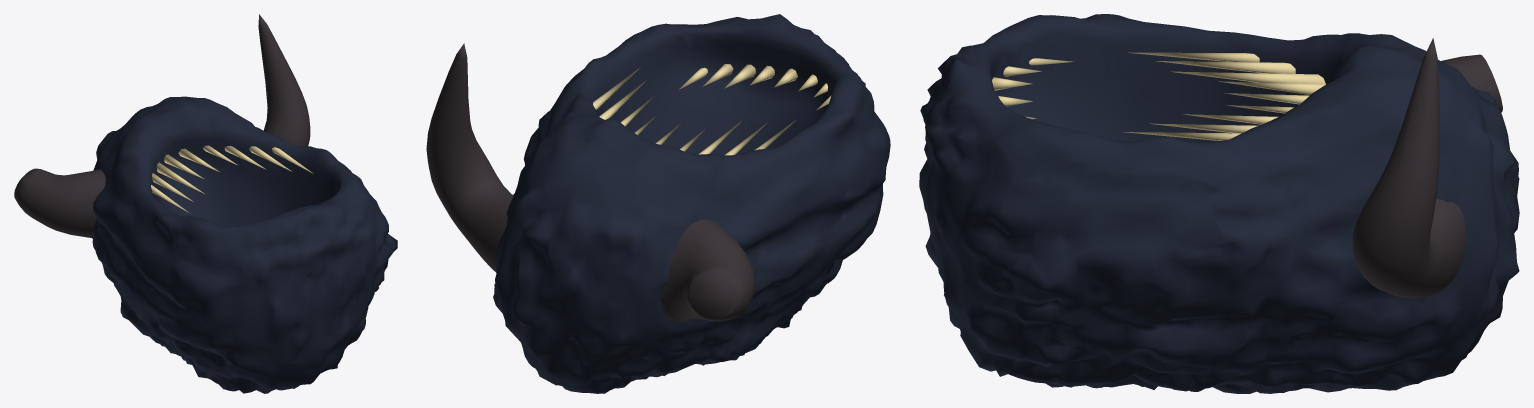
File: Blob Monster LOD.fbx
3 views of the same model, side by side, from view 1: azimuth 30°, elevation 25°; view 2: azimuth 150°, elevation 25°; view 3: azimuth 270°, elevation 25° (orthographic). The views are drawn at different scales.
Parts seen in each view (by area): view 1: Blob Monster_LOD0; view 2: Blob Monster_LOD0; view 3: Blob Monster_LOD0.
Part boxes in pixels (<box>): Blob Monster_LOD0: <box>14,14,397,393</box>; Blob Monster_LOD0: <box>426,14,890,393</box>; Blob Monster_LOD0: <box>919,14,1519,393</box>.
Size of what is drawn, in the model's own units: 866 by 824 by 1050.
